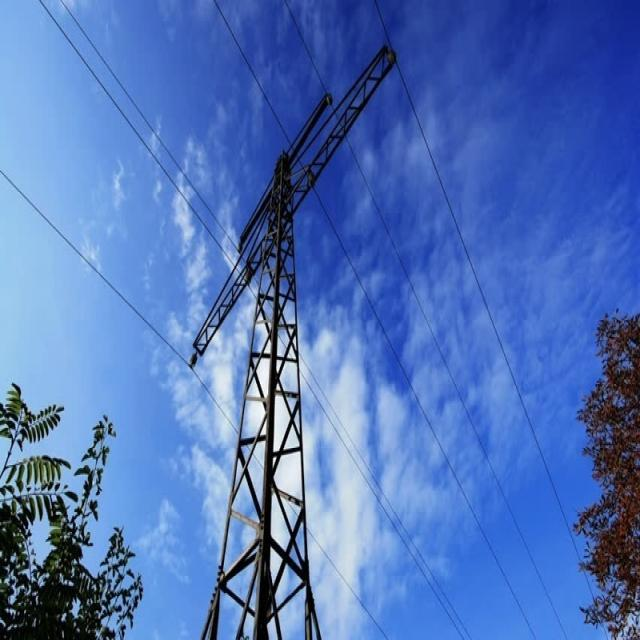non-critical vegetation: (198, 76, 366, 624)
